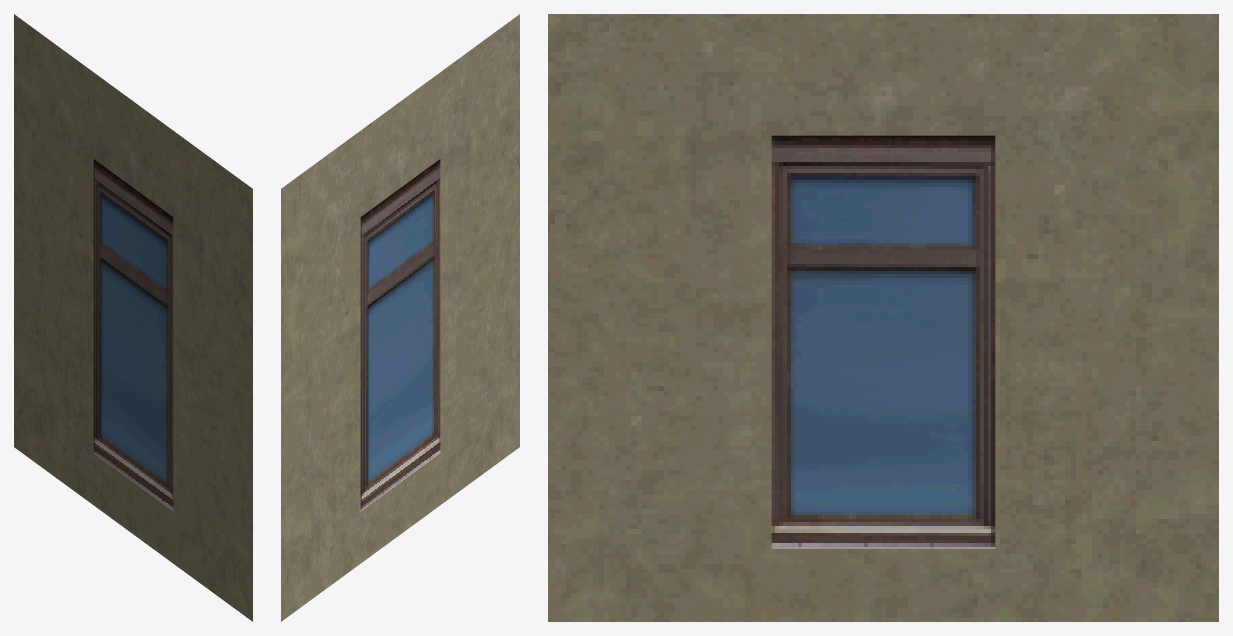
The model's file is stuco_wall_window_2.glb.
3 renders of one model, left to right at view 1: azimuth 30°, elevation 25°; view 2: azimuth 150°, elevation 25°; view 3: azimuth 270°, elevation 25°, orthographic. The views are drawn at different scales.
Parts seen in each view (by area): view 1: stuco_wall_window_2; view 2: stuco_wall_window_2; view 3: stuco_wall_window_2.
Part boxes in pixels (x1,y1,x2,y2): stuco_wall_window_2: (14,14,252,621); stuco_wall_window_2: (281,14,519,621); stuco_wall_window_2: (548,14,1218,621).
Size of the model in its own units: 0 by 3 by 3.
1 material, 1 textured.
